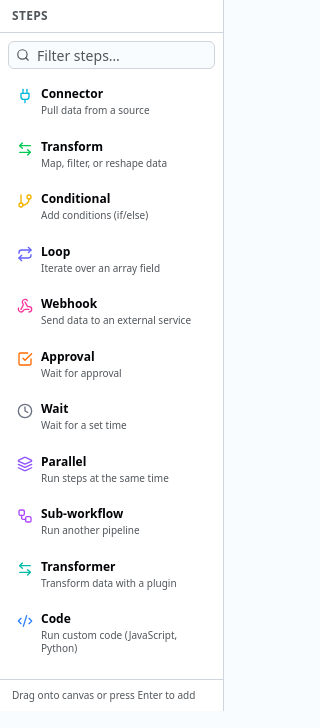
Test: NodePalette › search/filter › filters items by label match
In the field named "filter step types": (112, 55) top-left (8, 41), bottom-right (215, 69), type "code"
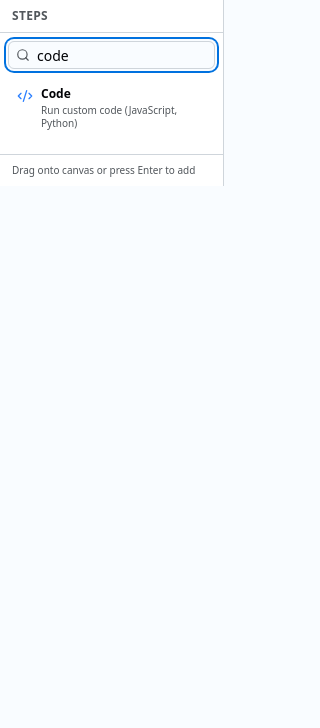
Expected: the text "Code" is shown, top-left (41, 85), bottom-right (71, 102)
Expected: the button "Wait" is gone
